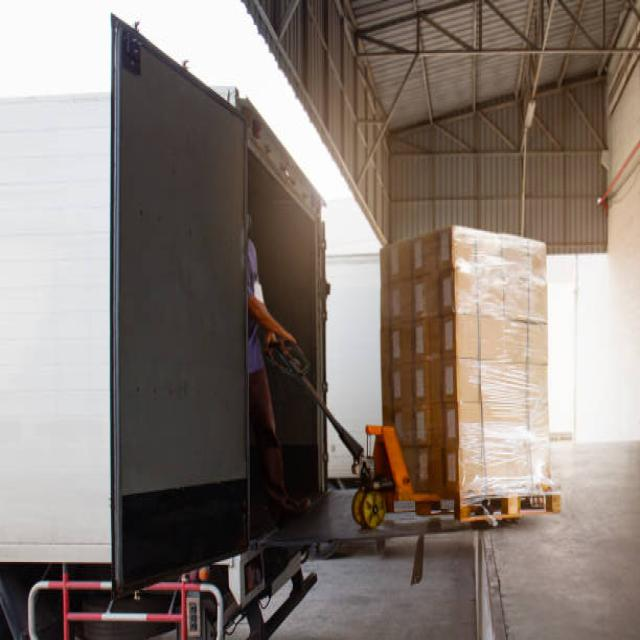Wooden-Pallets: (454, 485, 563, 528)
